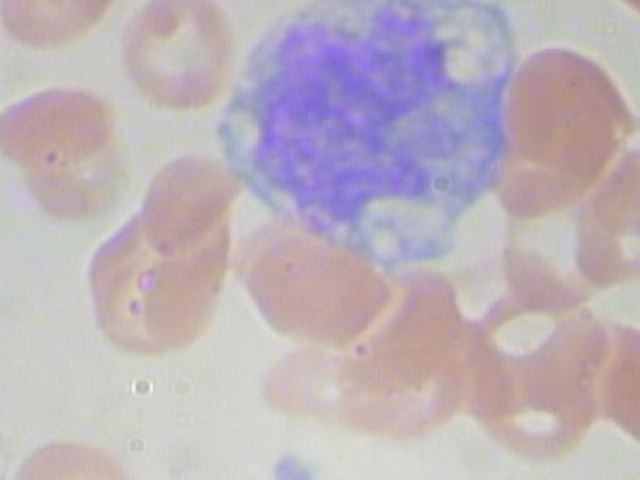Platelets: (263, 445, 328, 480)
RBC: (60, 224, 215, 355), (243, 223, 387, 363), (499, 44, 640, 184), (446, 351, 603, 470), (110, 0, 241, 131), (138, 138, 243, 265), (0, 64, 123, 172), (8, 427, 163, 480), (0, 0, 130, 62), (586, 315, 640, 455), (542, 475, 640, 480)
WBC: (230, 0, 529, 275)
